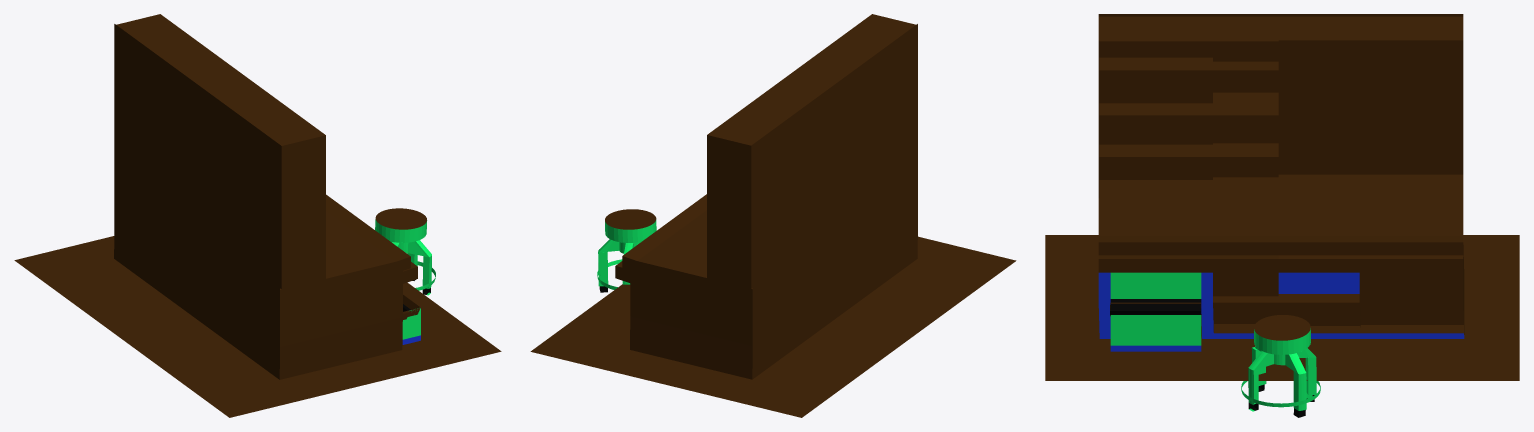
The model's file is bancada.fbx.
3 renders of one model, left to right at view 1: azimuth 30°, elevation 25°; view 2: azimuth 150°, elevation 25°; view 3: azimuth 270°, elevation 25°, orthographic. The views are drawn at different scales.
Visible parts, largest first — view 1: Cube, Plane, Cylinder; view 2: Cube, Plane, Cylinder; view 3: Cube, Plane, Cylinder.
Boxes of the visible parts, x1,y1,x2,y2 form: Cube: (114, 14, 420, 379); Plane: (14, 236, 501, 417); Cylinder: (375, 208, 435, 295); Cube: (615, 14, 917, 379); Plane: (530, 236, 1016, 417); Cylinder: (597, 209, 656, 292); Cube: (1098, 14, 1464, 351); Plane: (1045, 235, 1519, 380); Cylinder: (1241, 315, 1320, 417).
Bounding box in the file's own units: 1378 × 1093 × 1666.
